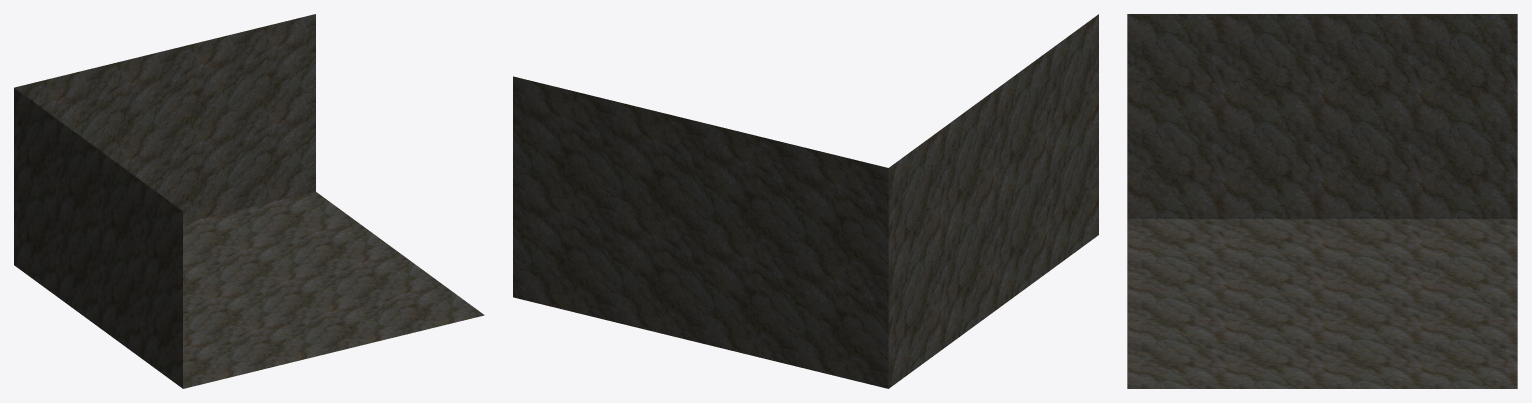
File: building_section02_guanka10C27.FBX
The picture shows the model from 3 angles, left to right: view 1: azimuth 30°, elevation 25°; view 2: azimuth 150°, elevation 25°; view 3: azimuth 270°, elevation 25°; orthographic projection. The views are drawn at different scales.
Parts seen in each view (by area): view 1: building_section02_guanka10C27; view 2: building_section02_guanka10C27; view 3: building_section02_guanka10C27.
Boxes of the visible parts, left/top/right/bottom form: building_section02_guanka10C27: left=14, top=14, right=484, bottom=388; building_section02_guanka10C27: left=513, top=14, right=1098, bottom=388; building_section02_guanka10C27: left=1127, top=14, right=1517, bottom=388.
Size of the model in its own units: 146 by 82.3 by 142.
